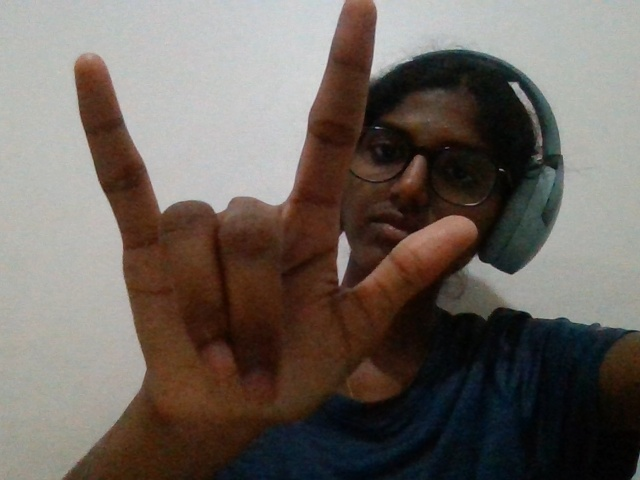I Love You: (44, 8, 507, 459)
